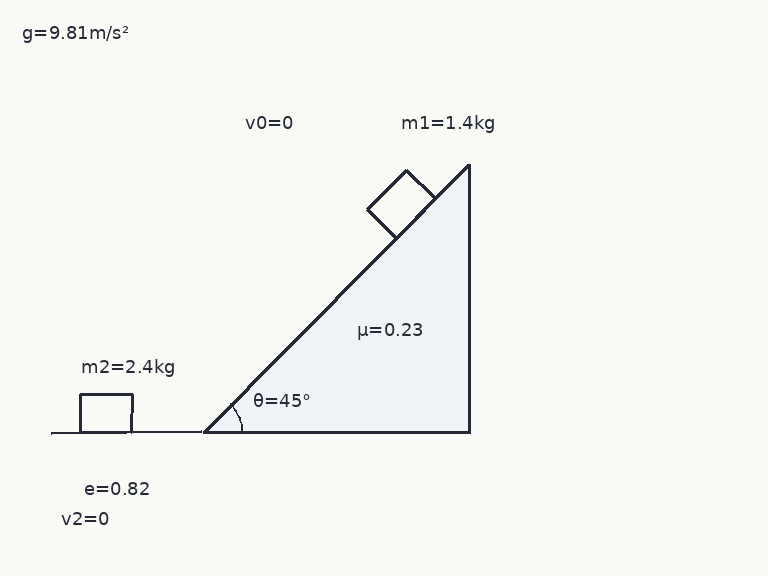block: (365, 168, 437, 240), (78, 393, 134, 434)
ramp: (200, 163, 471, 434)
